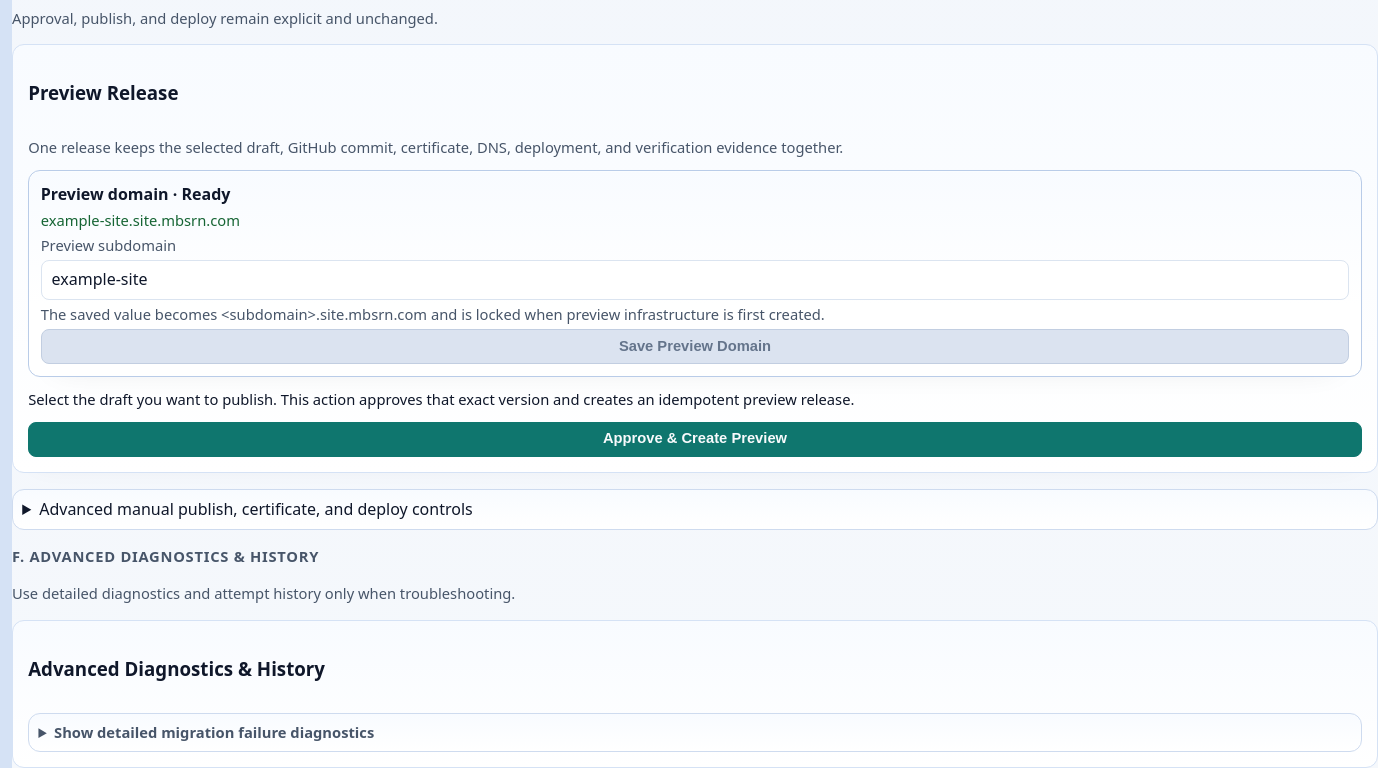
Test case: site migration workflow route › creates an idempotent preview release from the selected draft and keeps manual controls collapsed
(page scrolled)
Click the button "Approve & Create Preview".
click(695, 439)  # box [28,422,1362,457]
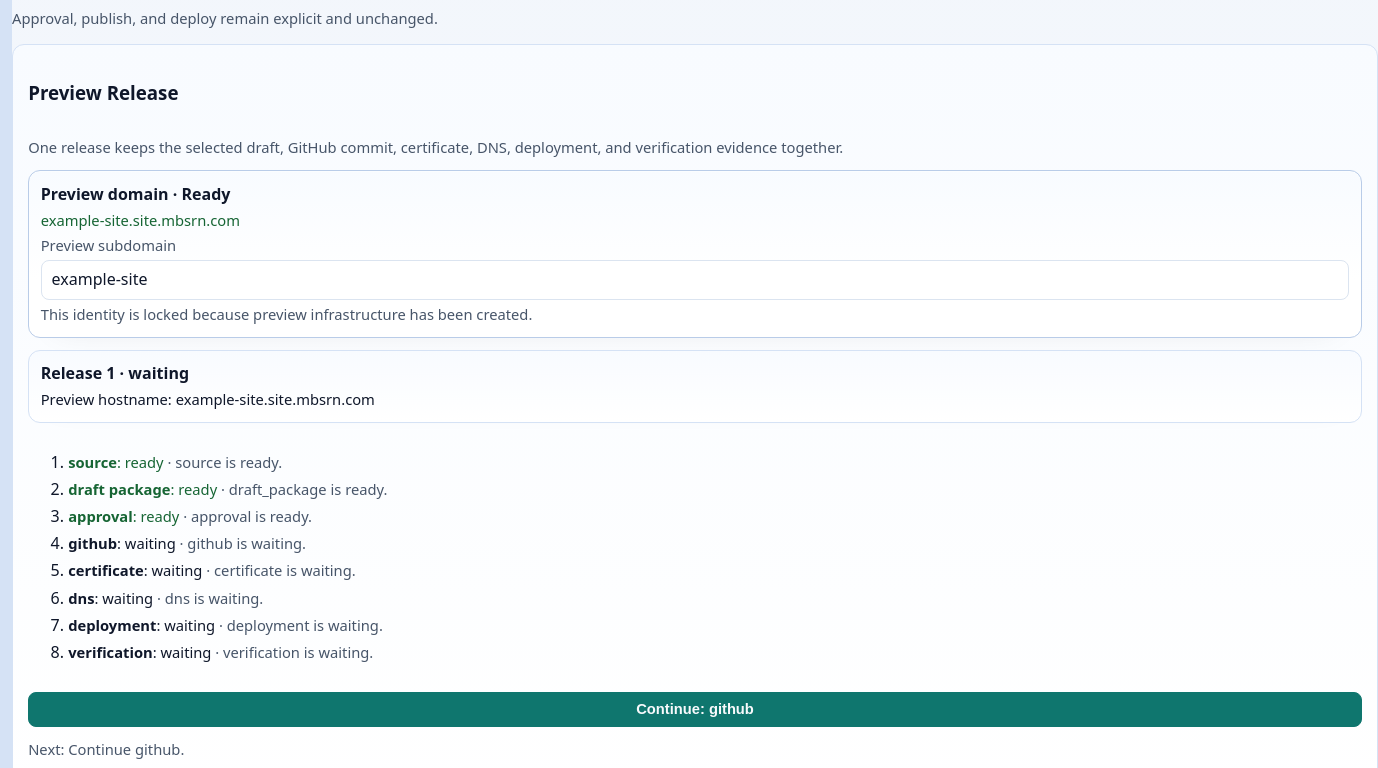
Result: the text "Preview hostname: example-site.site.mbsrn.com" is shown at [41,389,375,409]
Result: the list with test id "migration-preview-release-gates" is shown at [68,452,387,662]
